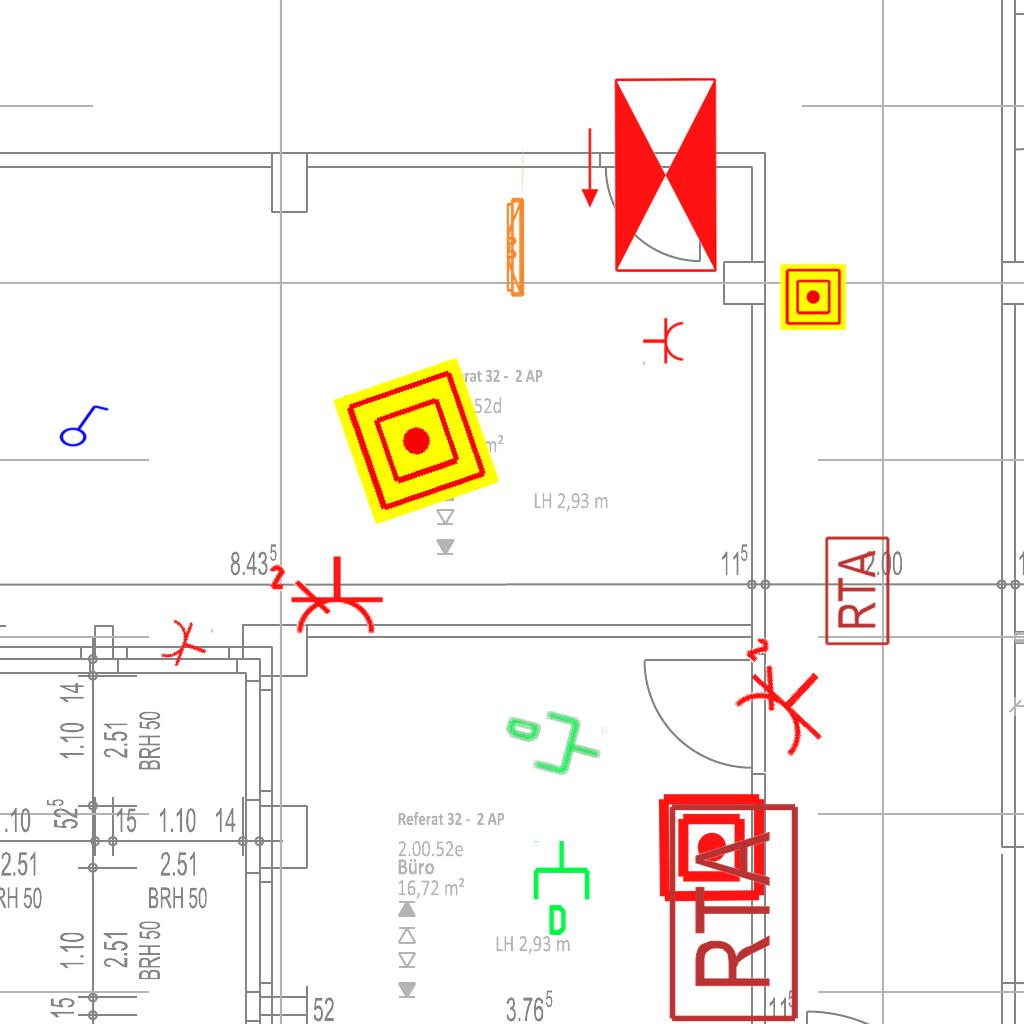Ausschalter: (54, 400, 110, 448)
Datenanschluss_einfach: (495, 697, 610, 791), (529, 838, 598, 938)
Fluchtwegpiktogramm: (576, 71, 723, 279)
NAM-Nichtautomatischer_Melder: (332, 357, 500, 525), (655, 791, 768, 904), (780, 264, 846, 330)
Ruf-und_Abstelltaster: (665, 801, 803, 1024), (823, 535, 892, 649)
Schukosteckdose_einfach: (157, 613, 216, 675), (642, 317, 685, 367)
Schukosteckdose_mehrfach: (709, 622, 858, 770), (267, 550, 388, 638)
Sicherheitsleuchte_Wandeinbau: (502, 143, 527, 302)
